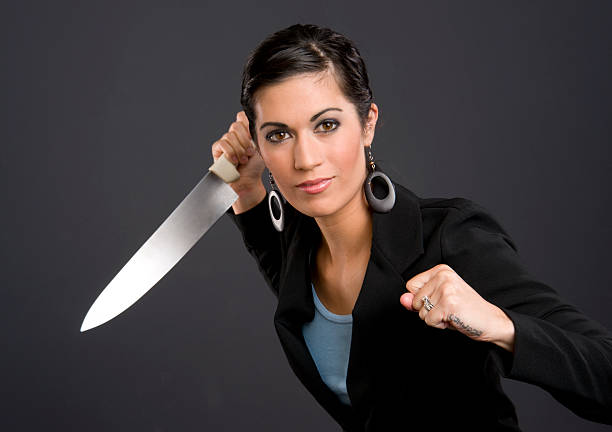knife: (78, 151, 241, 334)
